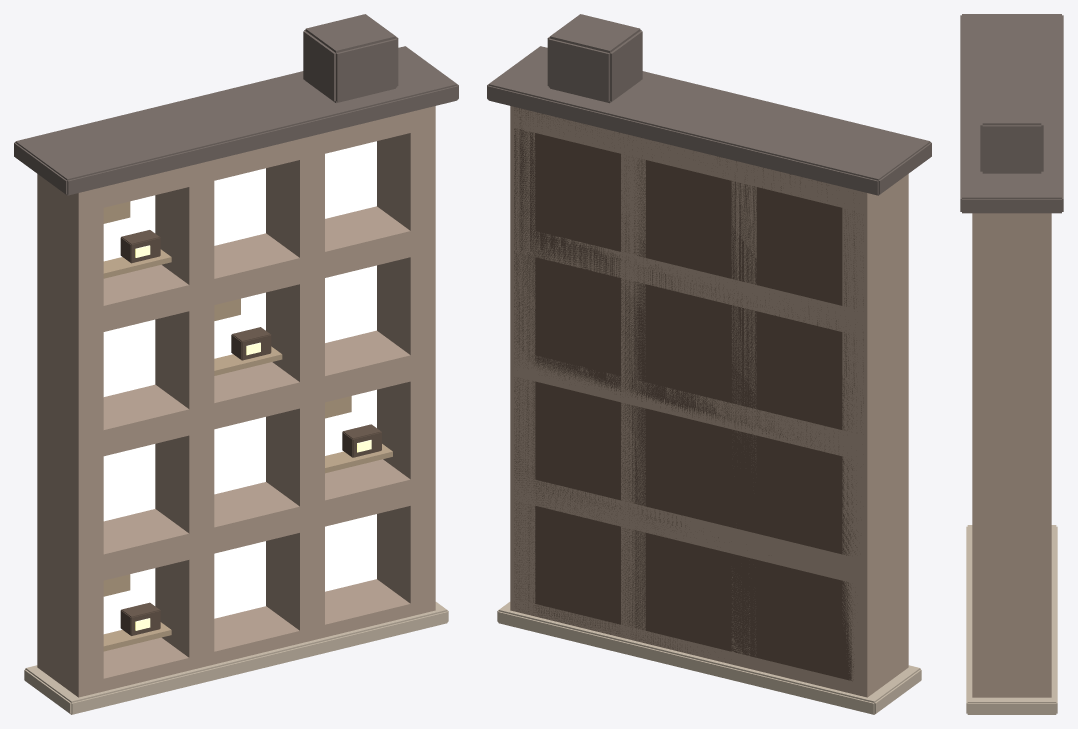
File: home_block.glb
3 renders of one model, left to right at view 1: azimuth 30°, elevation 25°; view 2: azimuth 150°, elevation 25°; view 3: azimuth 270°, elevation 25°, orthographic. The views are drawn at different scales.
Visible parts, largest first — view 1: Pier0, Roof, Pier3, Pier1, Pier2, Band1, Band3, Band2, Band0, Band4, Sill, RoofTank (+20 smaller); view 2: InnerShell, Pier0, Roof, Pier3, Pier2, Band1, Band3, Band2, Band4, Sill, RoofTank, Band0 (+1 smaller); view 3: Pier3, Roof, RoofTank, Sill, Band1, Band2, Band0, Band3, Band4.
Boxes of the visible parts, x1,y1,x2,y2 form: Pier0: [37, 174, 103, 684]; Roof: [14, 46, 458, 195]; Pier3: [377, 106, 435, 616]; Pier1: [155, 160, 214, 670]; Pier2: [266, 133, 324, 641]; Band1: [37, 459, 435, 586]; Band3: [37, 206, 435, 337]; Band2: [37, 330, 435, 461]; Band0: [37, 579, 434, 697]; Band4: [37, 106, 435, 213]; Sill: [24, 602, 448, 714]; RoofTank: [303, 14, 398, 103]; InnerShell: [514, 107, 863, 681]; Pier0: [842, 174, 908, 684]; Roof: [487, 46, 931, 195]; Pier3: [510, 106, 535, 616]; Pier2: [621, 133, 645, 642]; Band1: [510, 475, 908, 586]; Band3: [510, 227, 908, 337]; Band2: [510, 353, 908, 461]; Band4: [510, 106, 908, 213]; Sill: [497, 602, 921, 714]; RoofTank: [547, 14, 642, 103]; Band0: [511, 599, 908, 697]; Pier3: [972, 213, 1051, 697]; Roof: [960, 14, 1063, 213]; RoofTank: [980, 95, 1043, 173]; Sill: [966, 525, 1057, 714]; Band1: [972, 565, 1051, 590]; Band2: [972, 445, 1051, 470]; Band0: [972, 685, 1051, 697]; Band3: [973, 325, 1051, 350]; Band4: [972, 213, 1051, 230].
Bounding box in the file's own units: 5.5 × 7.92 × 1.3.
